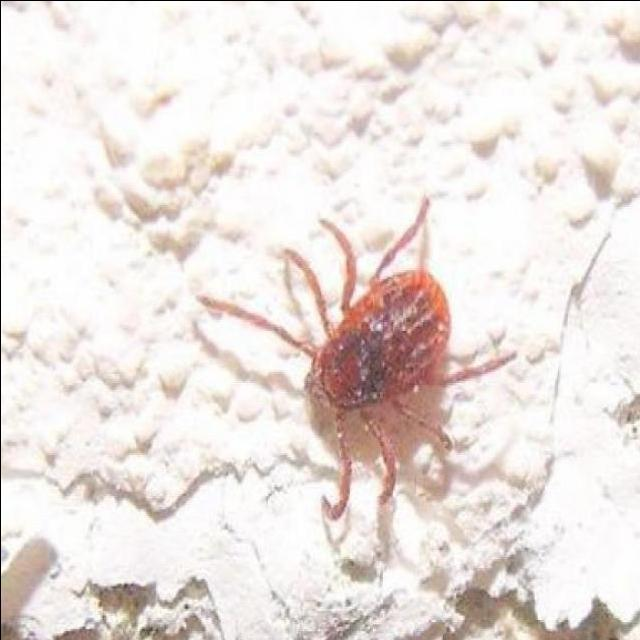Rhipicephalus Sanguineus-F: (207, 197, 497, 560)
